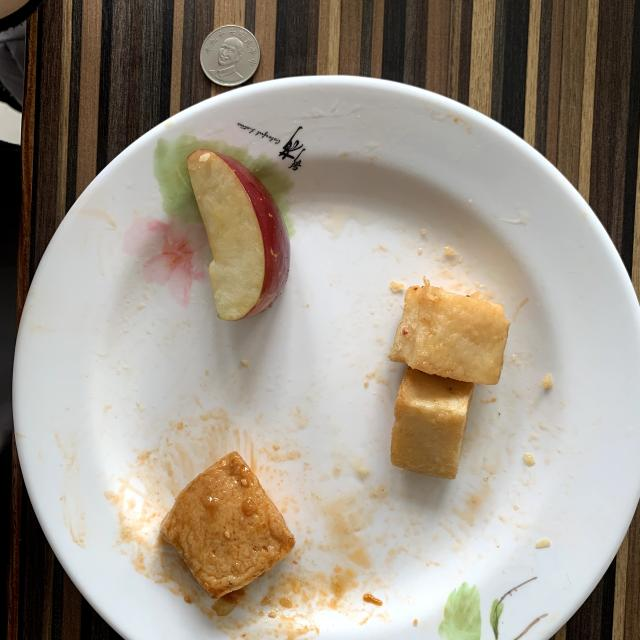apple -sliced-: (188, 149, 290, 321)
coin: (200, 25, 260, 88)
creamy tofu: (160, 451, 295, 598)
fried potato: (389, 278, 510, 479)
